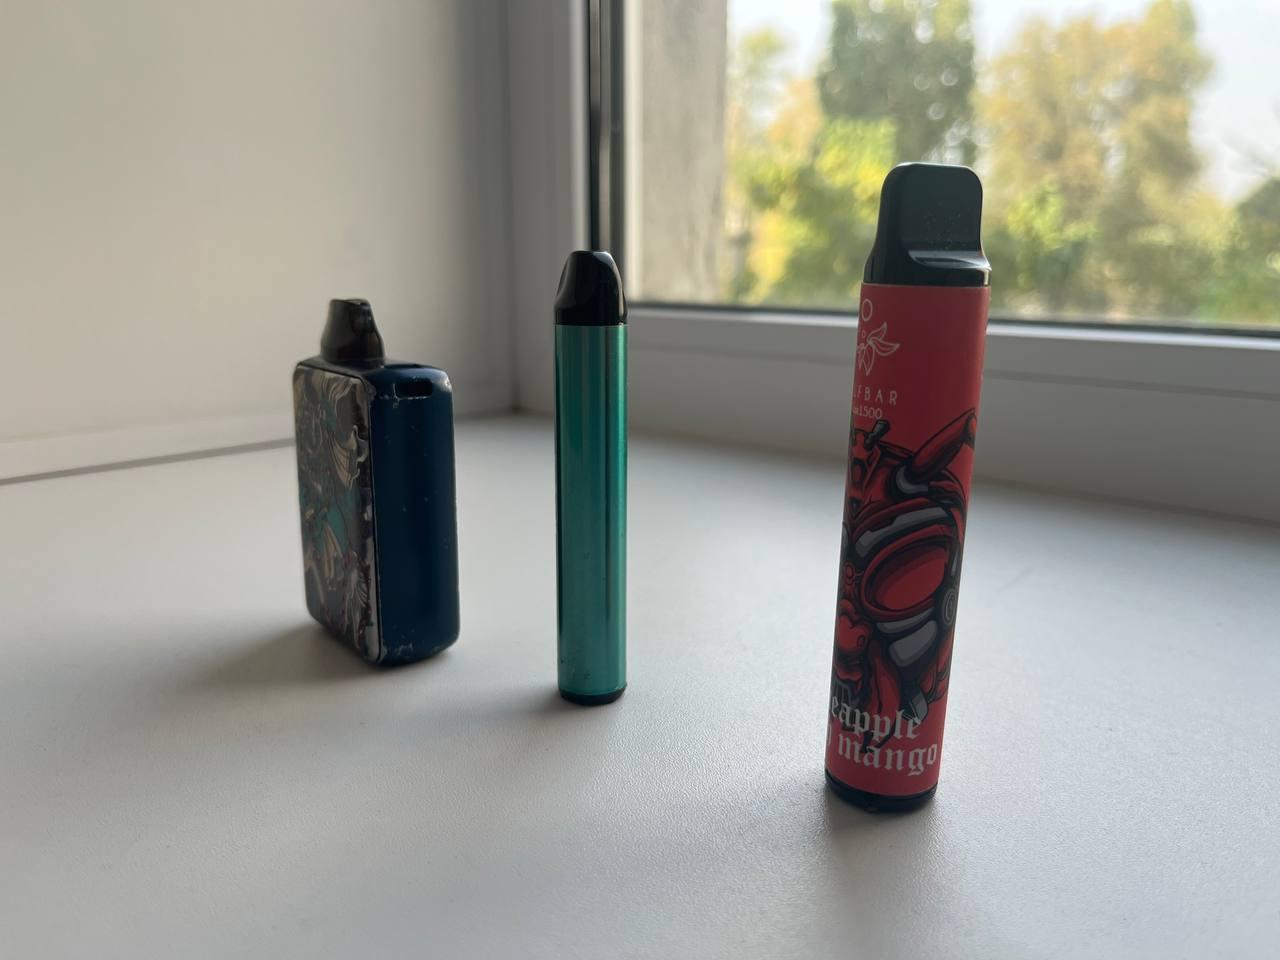Vape: (825, 163, 990, 812), (293, 299, 459, 665), (555, 252, 627, 704)
